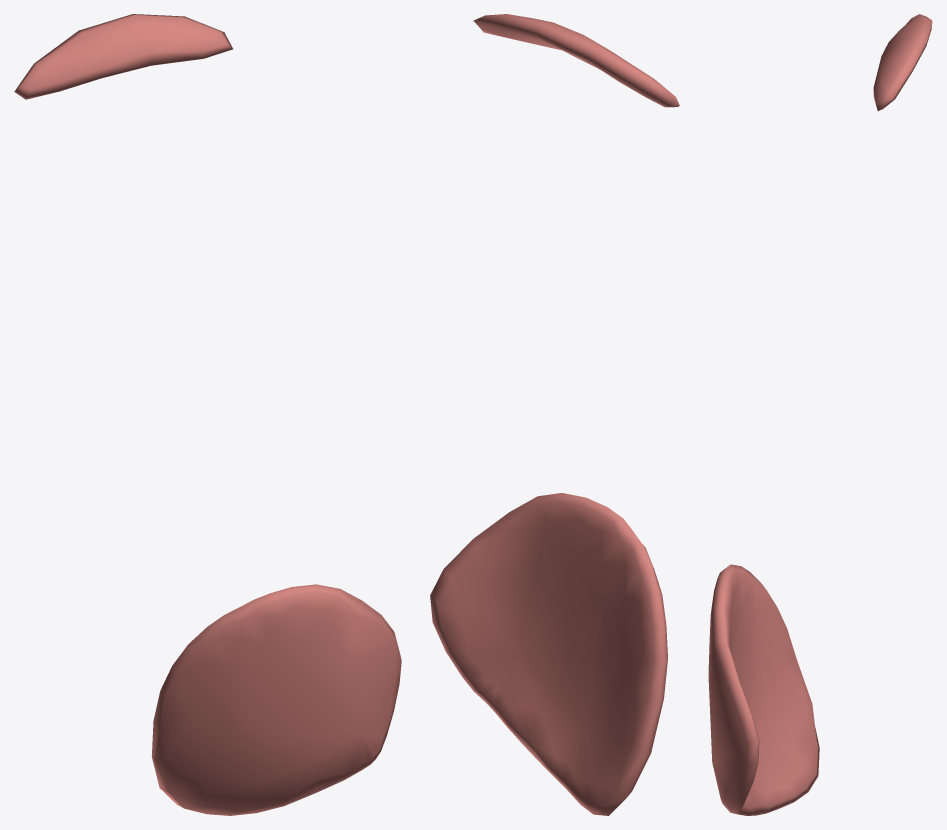
3 renders of one model, left to right at view 1: azimuth 30°, elevation 25°; view 2: azimuth 150°, elevation 25°; view 3: azimuth 270°, elevation 25°, orthographic. The views are drawn at different scales.
Parts seen in each view (by area): view 1: ZA_3237a365cbb2bc89; view 2: ZA_3237a365cbb2bc89; view 3: ZA_3237a365cbb2bc89.
Boxes of the visible parts, left/top/right/bottom form: ZA_3237a365cbb2bc89: left=14, top=14, right=401, bottom=815; ZA_3237a365cbb2bc89: left=430, top=14, right=679, bottom=815; ZA_3237a365cbb2bc89: left=708, top=14, right=932, bottom=815.
Size of the model in its own units: 0.00839 by 0.0199 by 0.00537.
